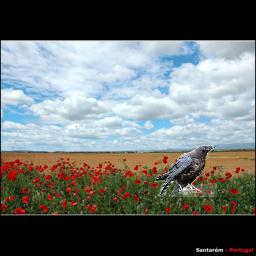Crow: (155, 145, 217, 197)
